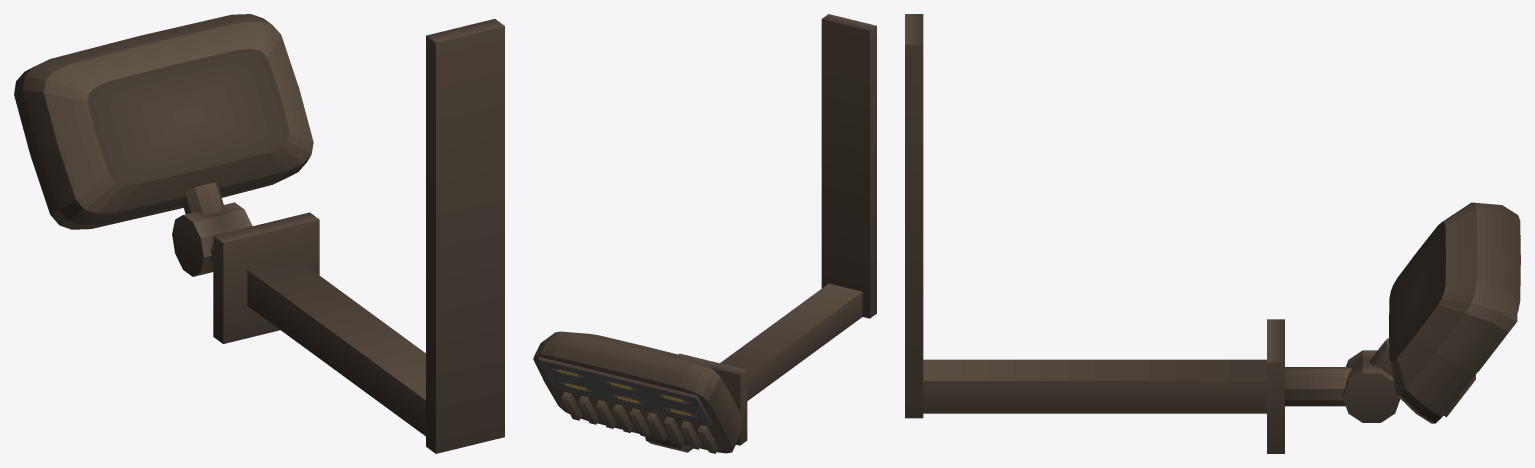
File: floodlight_lithdsxf2kn_x.obj
3 renders of one model, left to right at view 1: azimuth 30°, elevation 25°; view 2: azimuth 150°, elevation 25°; view 3: azimuth 270°, elevation 25°, orthographic. The views are drawn at different scales.
Parts seen in each view (by area): view 1: fixture; view 2: fixture; view 3: fixture.
Boxes of the visible parts, left/top/right/bottom form: fixture: left=14, top=14, right=504, bottom=453; fixture: left=533, top=14, right=876, bottom=453; fixture: left=905, top=14, right=1520, bottom=453.
Size of the model in its own units: 0.4598 by 0.7687 by 1.06.
